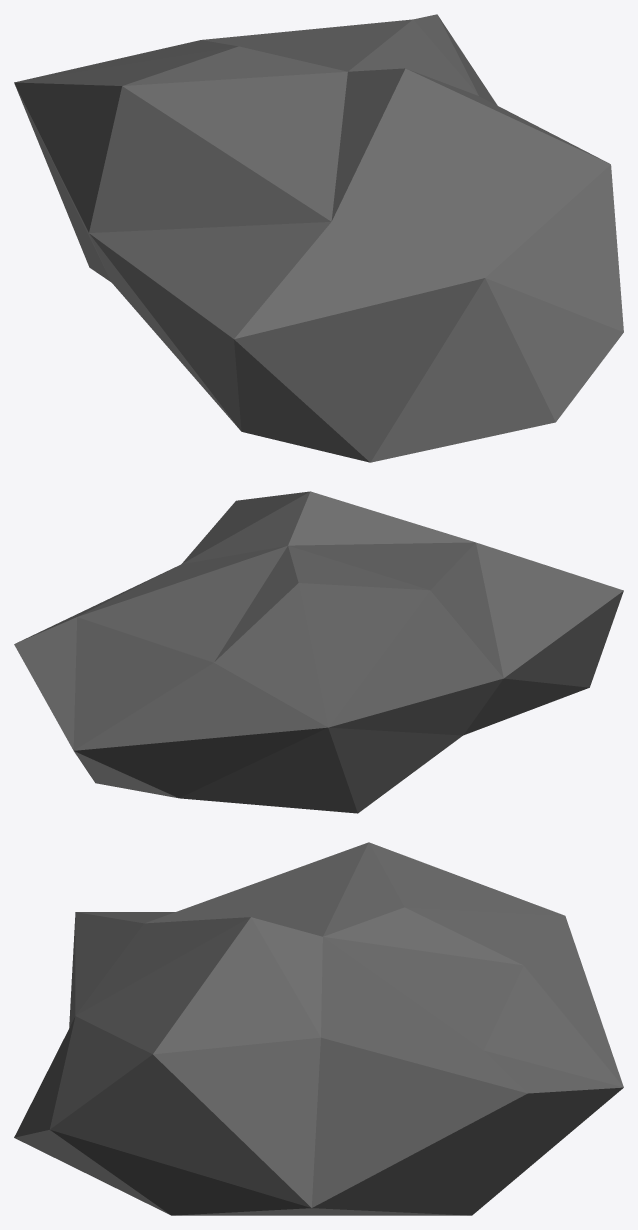
Rendered from Stone00.fbx.
3 renders of one model, top to bottom at view 1: azimuth 30°, elevation 25°; view 2: azimuth 150°, elevation 25°; view 3: azimuth 270°, elevation 25°, orthographic. The views are drawn at different scales.
Parts seen in each view (by area): view 1: Stone00; view 2: Stone00; view 3: Stone00.
Part boxes in pixels (left/top/right/bottom): Stone00: left=14, top=14, right=623, bottom=462; Stone00: left=14, top=491, right=623, bottom=813; Stone00: left=14, top=842, right=623, bottom=1215.
Size of the model in its own units: 158 by 89.98 by 203.
